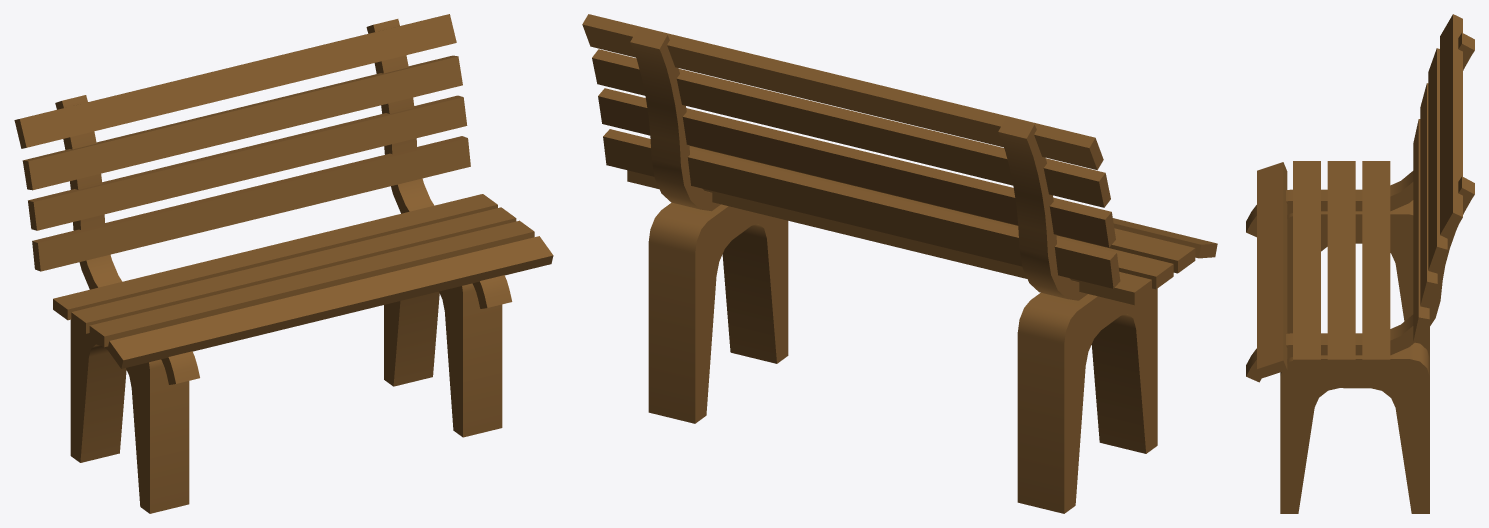
The model's file is bank.fbx.
3 views of the same model, side by side, from view 1: azimuth 30°, elevation 25°; view 2: azimuth 150°, elevation 25°; view 3: azimuth 270°, elevation 25° (orthographic). The views are drawn at different scales.
Parts seen in each view (by area): view 1: bank; view 2: bank; view 3: bank.
Part boxes in pixels (<box>): bank: <box>14,14,553,513</box>; bank: <box>582,14,1217,513</box>; bank: <box>1246,14,1474,513</box>.
Bounding box in the file's own units: 22.34 × 16.92 × 10.88.
